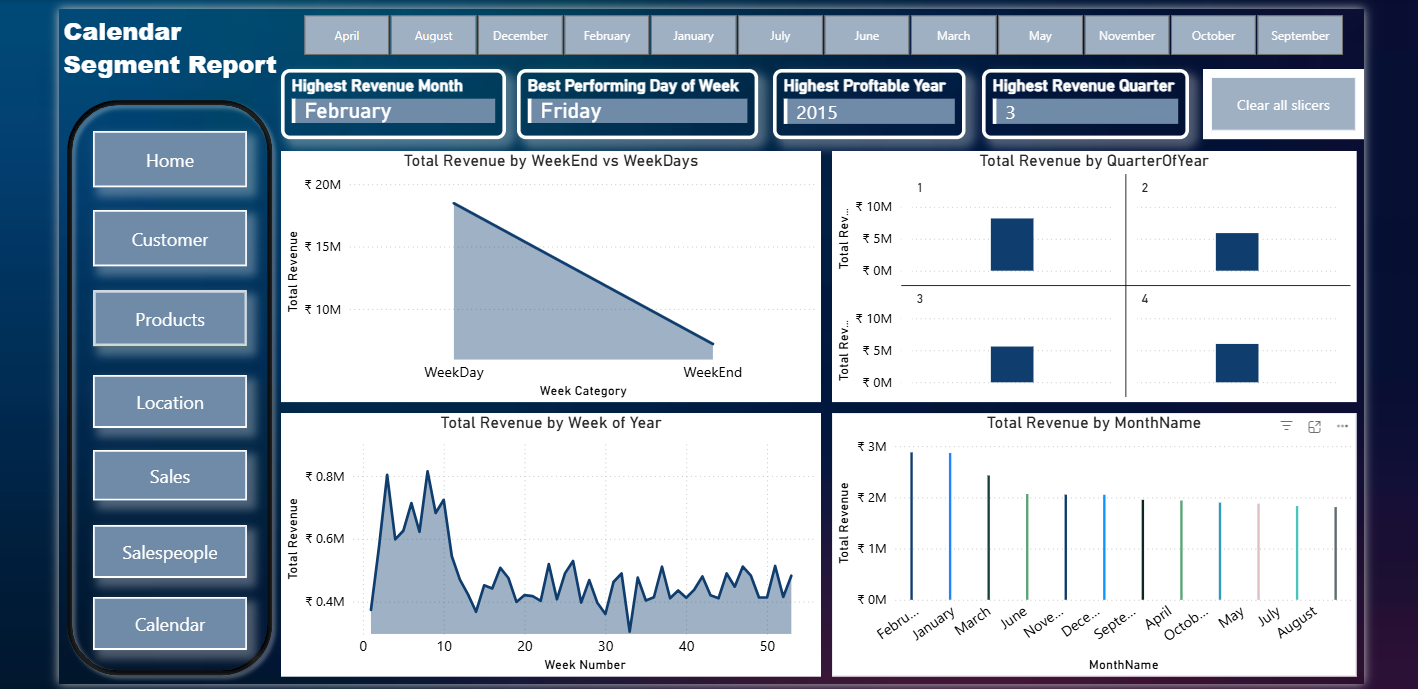

The dashboard page shown, as its layout file describes it:
{"tool":"powerbi","page":{"name":"Calendar","canvas":[1450,750],"ordinal":8},"visuals":[{"type":"clusteredColumnChart","title":"Total Revenue by MonthName","fields":{"Category":["Calendar.MonthName"],"Y":["Calendar.Total Revenue"],"Series":["Calendar.MonthName"]},"box":[858.8,448.8,582.5,292.5],"z":0},{"type":"clusteredColumnChart","fields":{"Y":["Calendar.Total Revenue"],"Rows":["Calendar.QuarterOfYear"]},"box":[858.8,157.5,582.5,278.8],"z":1000},{"type":"shape","box":[0,92.5,246.2,657.5],"z":2000},{"type":"shape","box":[37.5,135,171.2,62.5],"z":3000},{"type":"shape","box":[37.5,223.8,171.2,62.5],"z":4000},{"type":"shape","box":[37.5,312.5,171.2,62.5],"z":5000},{"type":"shape","box":[37.5,406.2,171.2,58.8],"z":6000},{"type":"shape","box":[37.5,490,171.2,56.2],"z":7000},{"type":"shape","box":[37.5,573.8,171.2,58.8],"z":8000},{"type":"shape","box":[37.5,653.8,171.2,58.8],"z":9000},{"type":"areaChart","title":"Total Revenue by Week of Year","fields":{"Y":["Calendar.Total Revenue"],"Category":["Calendar.Week Number"]},"box":[246.2,448.8,600,292.5],"z":10000},{"type":"areaChart","title":"Total Revenue by WeekEnd vs WeekDays","fields":{"Y":["Calendar.Total Revenue"],"Category":["Calendar.WeekEnd"]},"box":[246.2,157.5,600,278.8],"z":11000},{"type":"textbox","box":[0,0,258.8,92.5],"z":12000},{"type":"multiRowCard","title":"Highest Revenue Month","fields":{"Values":["Calendar.Highest Revenue Month"]},"box":[246.2,66.2,250,77.5],"z":13000},{"type":"multiRowCard","title":"Best Performing Day of Week","fields":{"Values":["Calendar.Best Performing Day of Week"]},"box":[508.8,66.2,267.5,77.5],"z":14000},{"type":"multiRowCard","title":"Highest Proftable Year","fields":{"Values":["Calendar.Highest Profitable Year"]},"box":[793.8,66.2,213.8,77.5],"z":15000},{"type":"multiRowCard","title":"Highest Revenue Quarter","fields":{"Values":["Calendar.Highest Revenue Quearter"]},"box":[1025,66.2,230,77.5],"z":16000},{"type":"actionButton","box":[1271.2,66.2,178.8,77.5],"z":17000},{"type":"slicer","fields":{"Values":["Calendar.MonthName"]},"box":[246.2,0,1203.8,57.5],"z":18000}]}

Visuals, with their boxes in screenshot pixels (x1, y1, x2, y2):
"Total Revenue by MonthName" clusteredColumnChart: [831,415,1360,680]
clusteredColumnChart - Calendar.Total Revenue x Calendar.QuarterOfYear: [831,150,1360,404]
shape: [52,91,275,688]
shape: [86,130,241,187]
shape: [86,211,241,267]
shape: [86,291,241,348]
shape: [86,376,241,430]
shape: [86,452,241,503]
shape: [86,528,241,582]
shape: [86,601,241,654]
"Total Revenue by Week of Year" areaChart: [275,415,820,680]
"Total Revenue by WeekEnd vs WeekDays" areaChart: [275,150,820,404]
textbox: [52,7,287,91]
"Highest Revenue Month" multiRowCard: [275,67,502,138]
"Best Performing Day of Week" multiRowCard: [514,67,757,138]
"Highest Proftable Year" multiRowCard: [772,67,967,138]
"Highest Revenue Quarter" multiRowCard: [982,67,1191,138]
actionButton: [1206,67,1368,138]
slicer - Calendar.MonthName: [275,7,1368,60]
